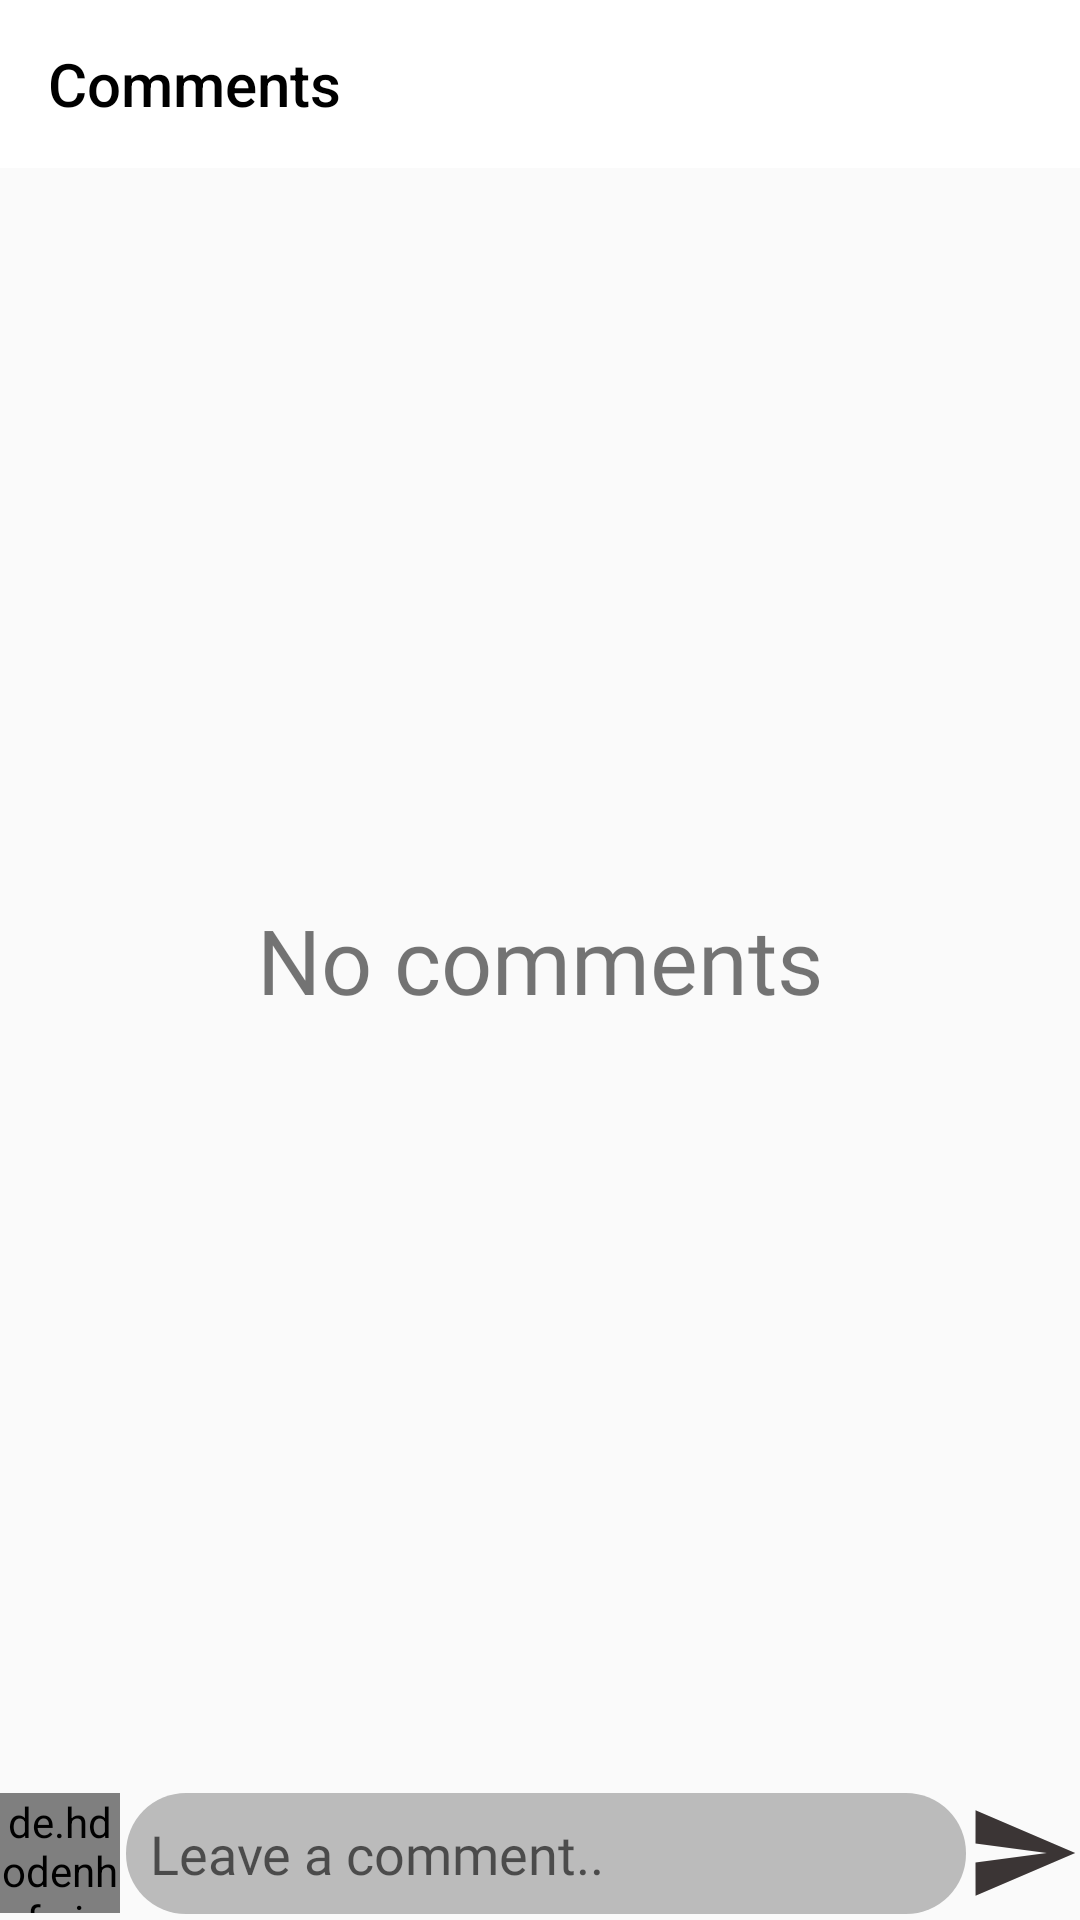

Icon click points for this 1080px×1920px phone screenshot, format point (x, y):
send: point (1025, 1853)
